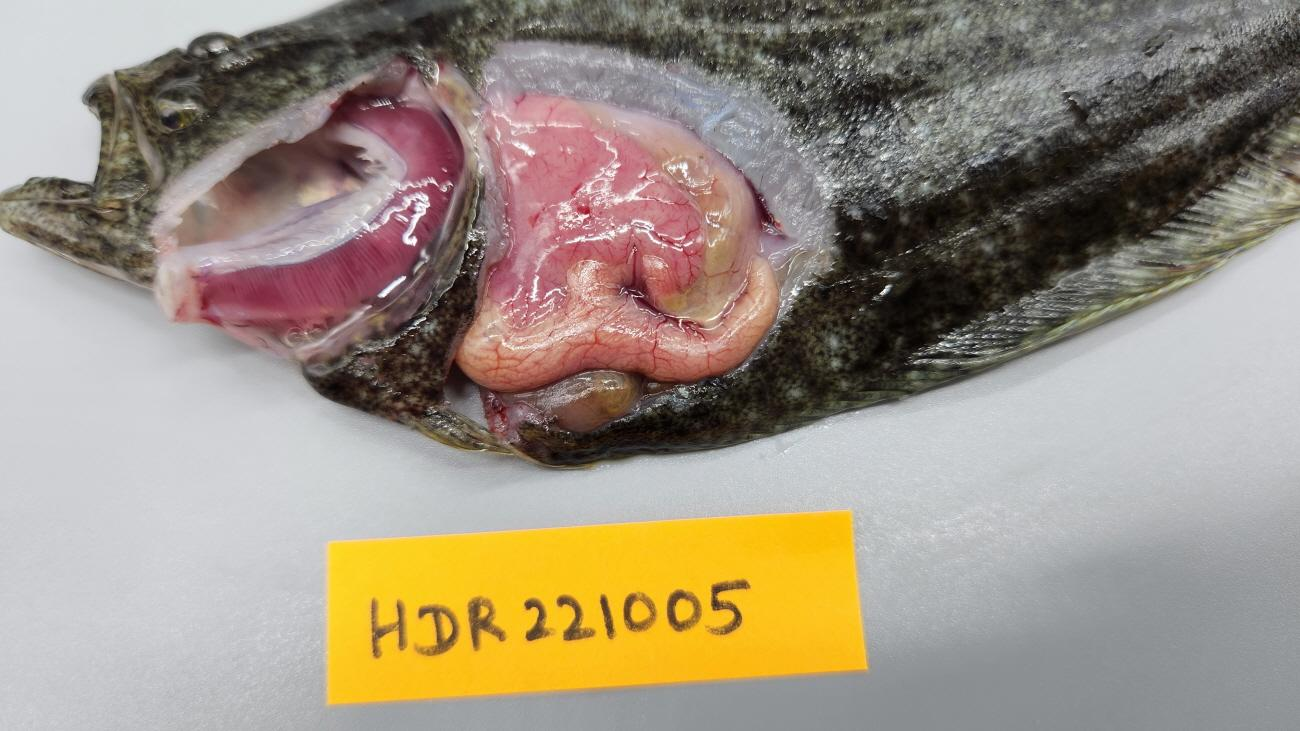POGIN: (192, 101, 458, 320)
POLIN: (483, 90, 712, 332)
